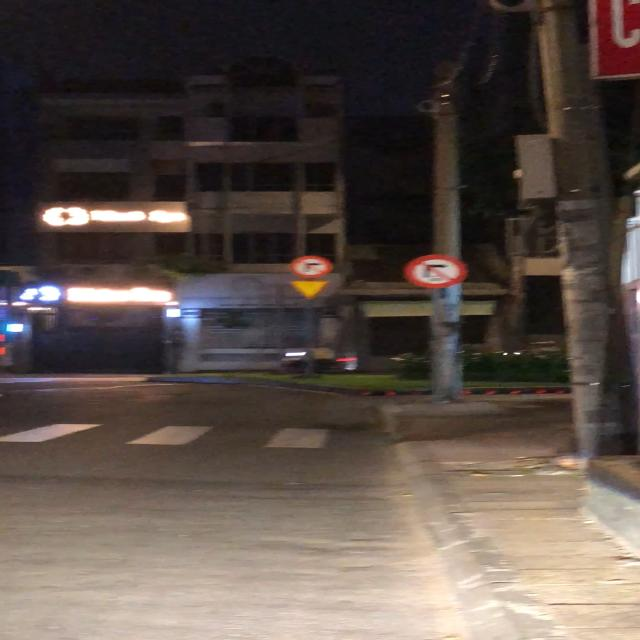Bien bao cam re phai: (287, 255, 336, 279)
Bien bao cam xe o to re phai: (402, 254, 472, 289)
Bien bao giao nhau voi duong uu tien: (287, 279, 336, 301)
